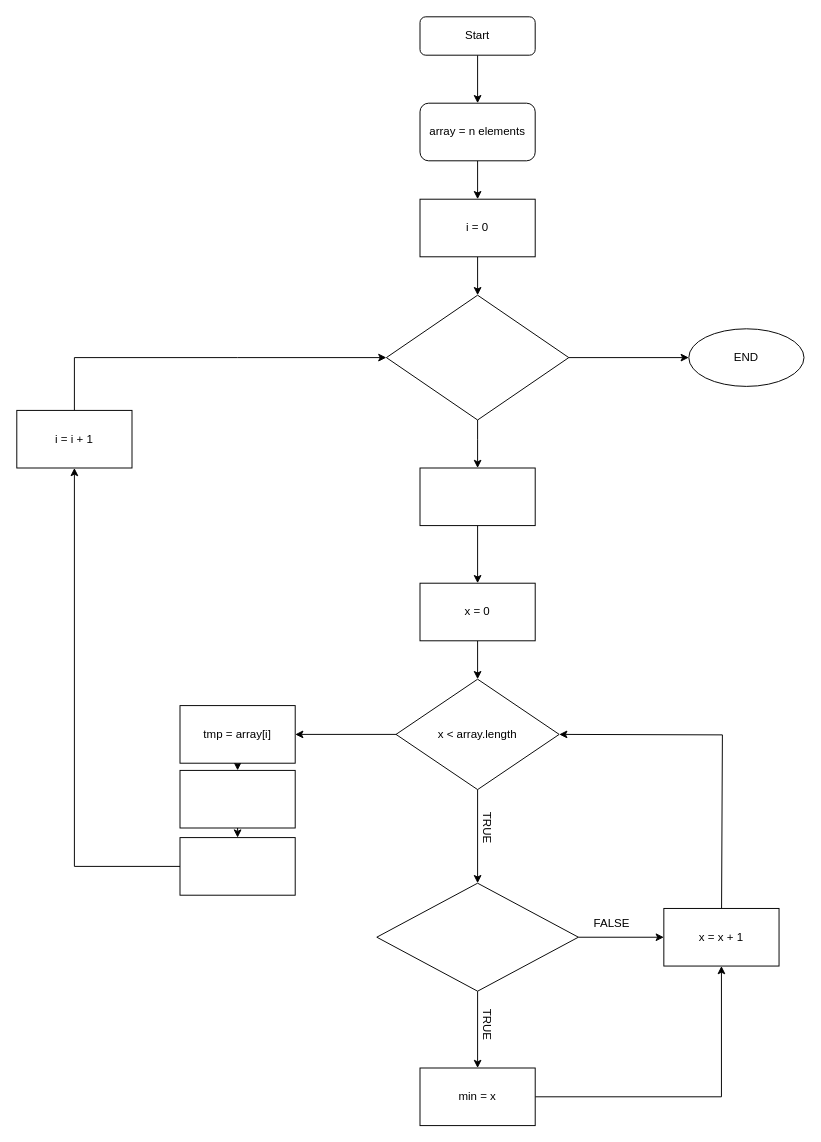
The diagram is 821 pixels wide and 1142 high, and some of its shapes have lost their labels. Each missing label, with the centre of its shape:
array[i] = array[min]: [237,798]
array[i] > array[x]: [477,936]
array[min] = tmp: [237,866]
i < array.length: [477,357]
min = i: [477,496]
